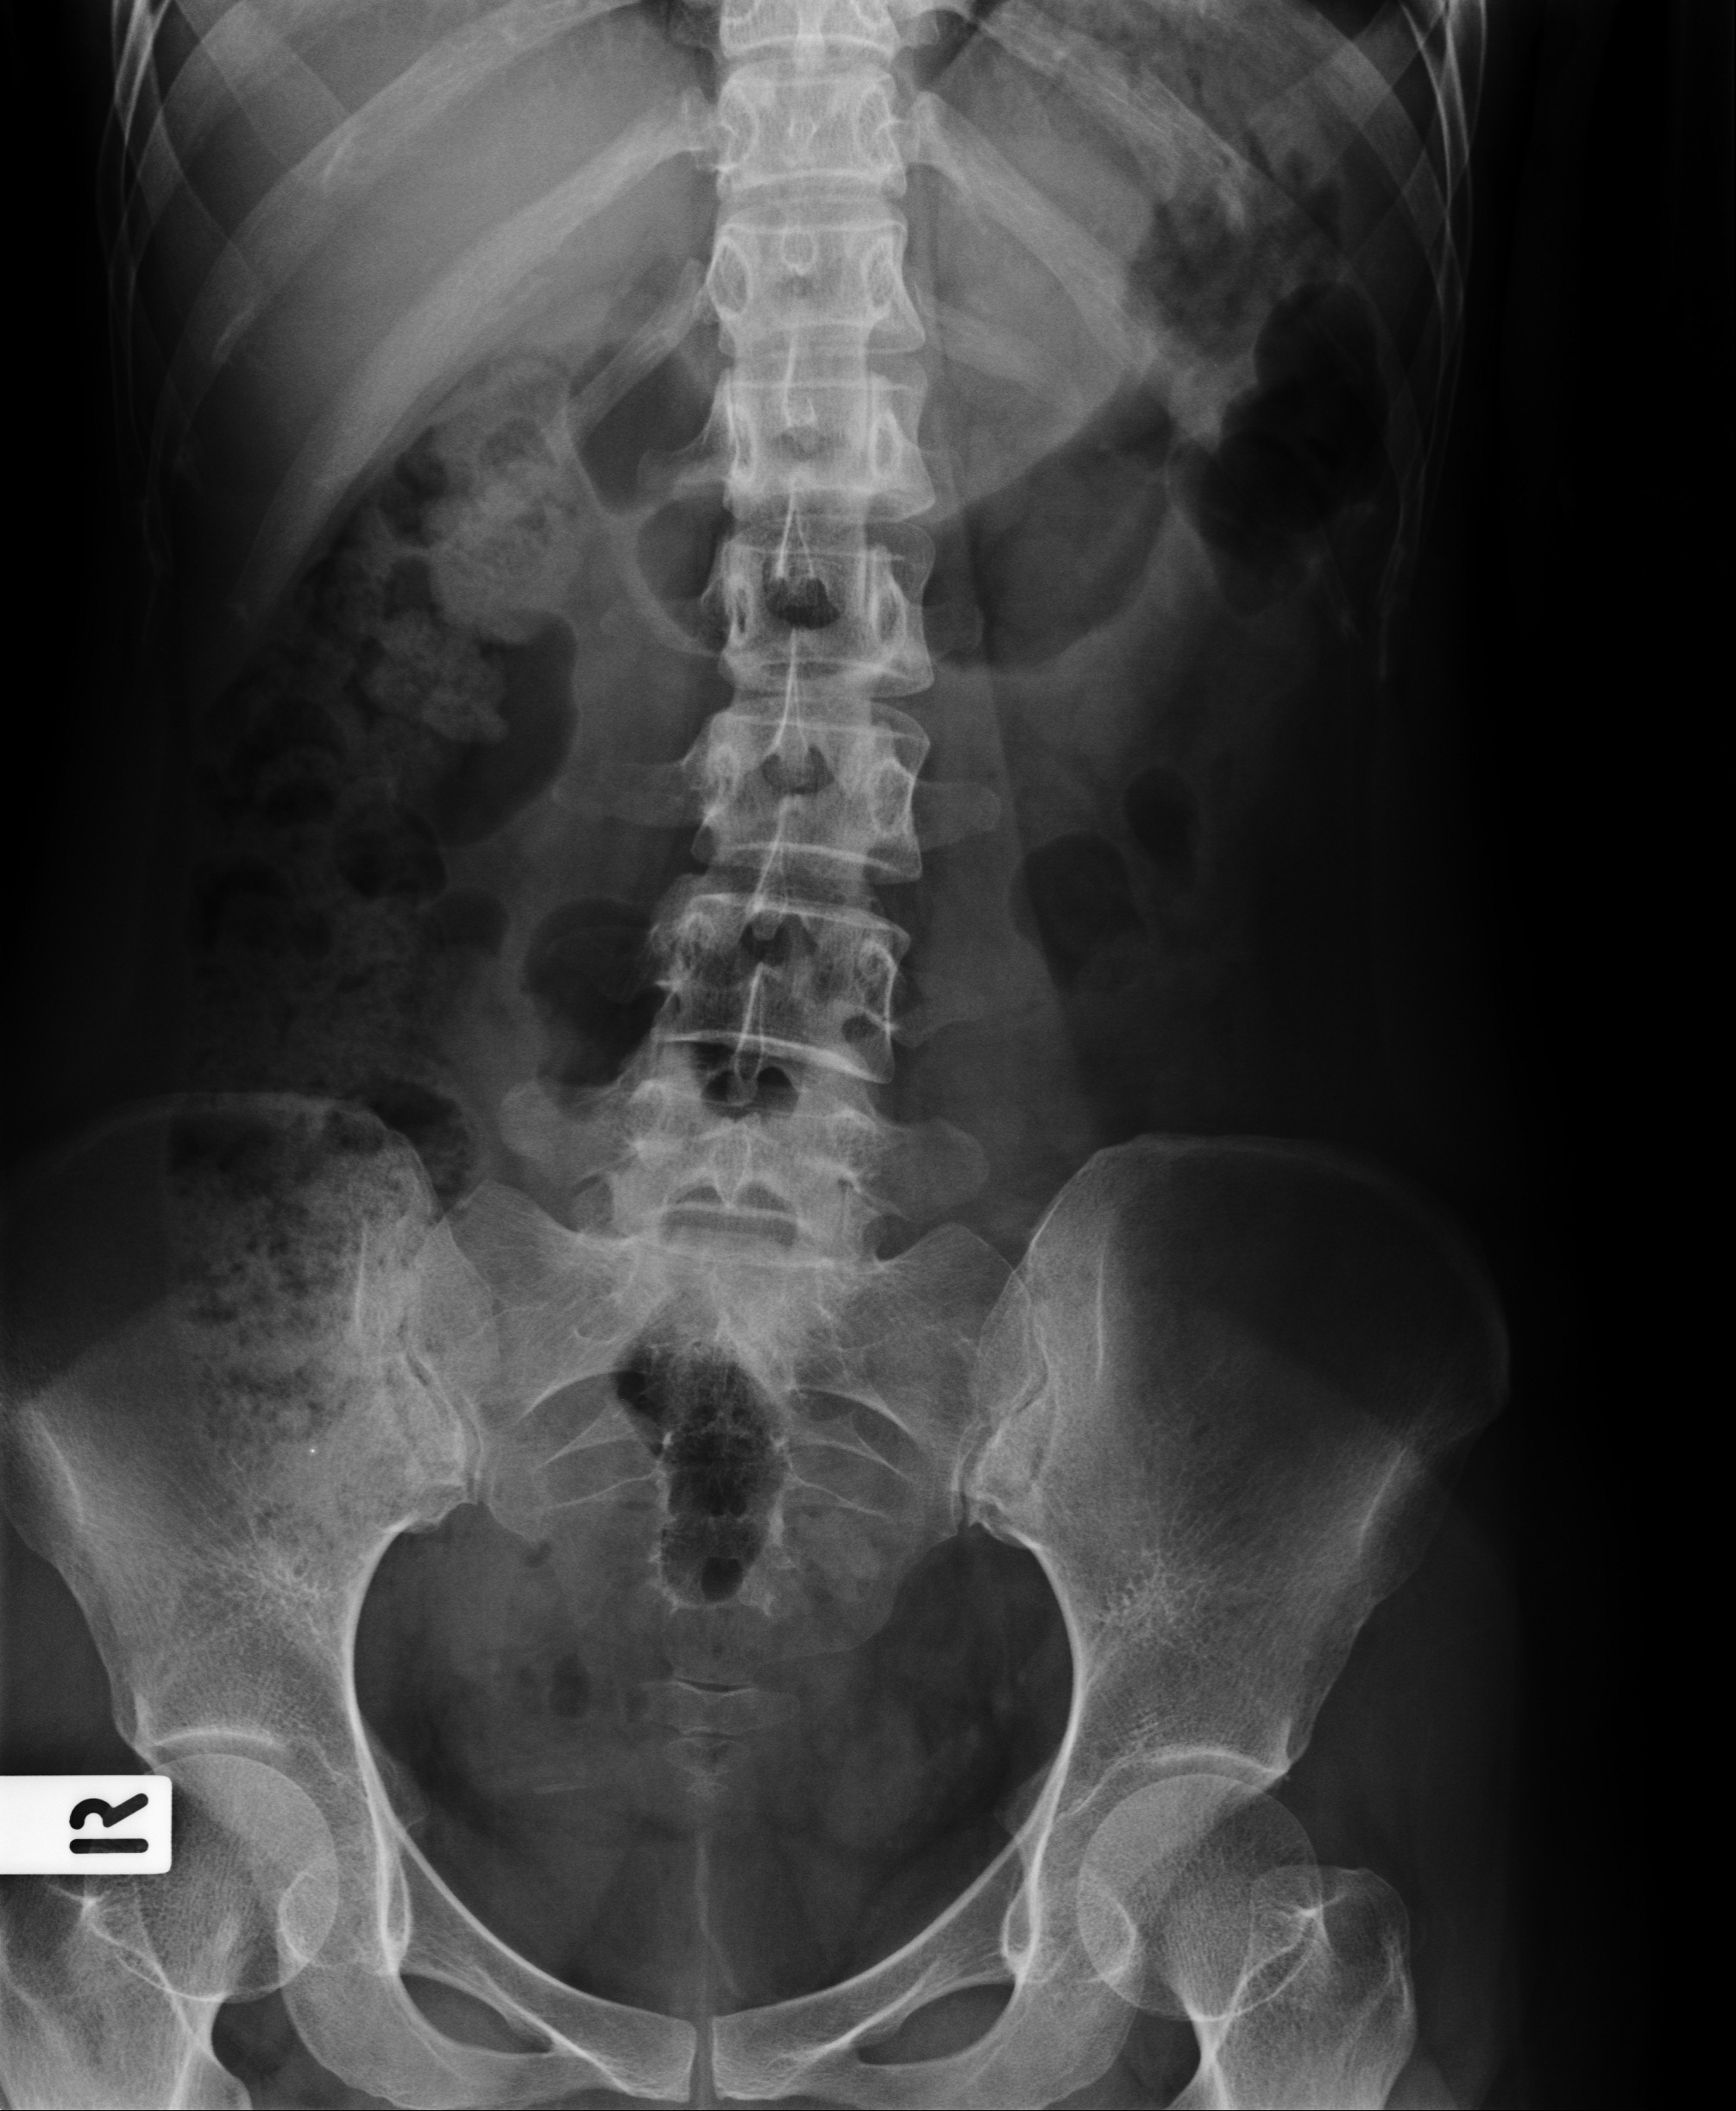lumbar scoliosis: (628, 12, 943, 1296)
